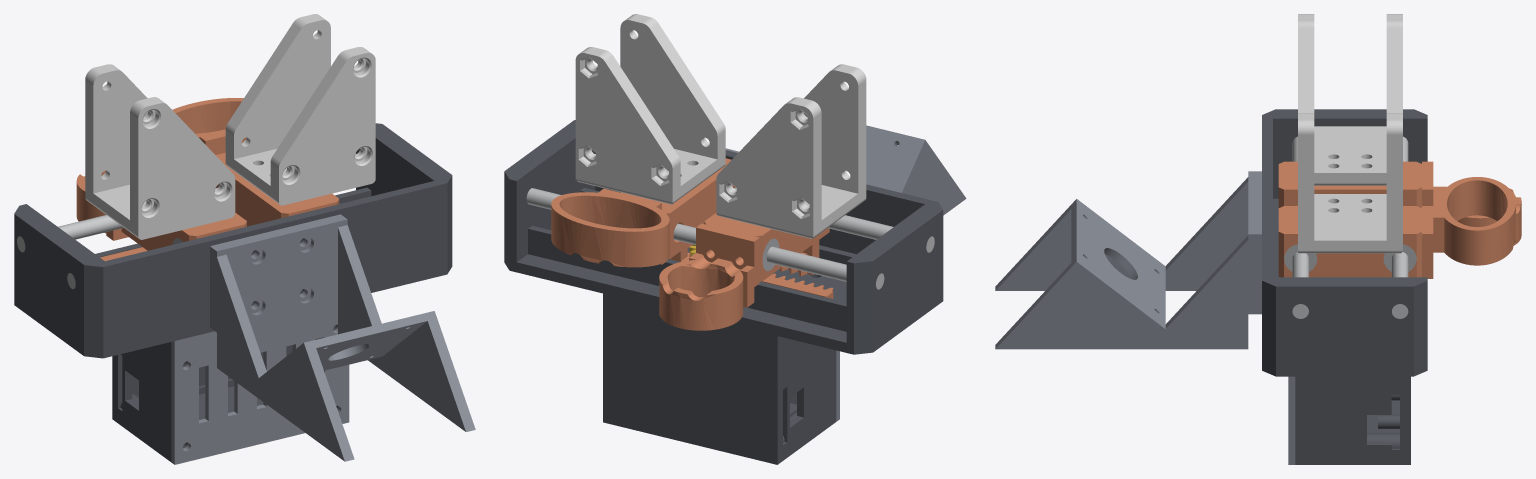
The model's file is collector_closed.glb.
3 views of the same model, side by side, from view 1: azimuth 30°, elevation 25°; view 2: azimuth 150°, elevation 25°; view 3: azimuth 270°, elevation 25° (orthographic).
Visible parts, largest first — view 1: frame, cam_imx335_mount, tip_R, tip_L, pod_lid, pod, carriage_R, ring_index, carriage_L, rod_bottom, ring_thumb; view 2: frame, pod, tip_R, tip_L, ring_thumb, ring_index, cam_imx335_mount, carriage_R, rod_bottom, carriage_L, rod_top; view 3: cam_imx335_mount, frame, pod, tip_R, tip_L, ring_index, carriage_R, carriage_L, ring_thumb, rod_bottom, rod_top, pod_lid.
Boxes of the visible parts, left/top/right/bottom form: frame: left=14, top=123, right=452, bottom=358; cam_imx335_mount: left=210, top=214, right=475, bottom=461; tip_R: left=225, top=14, right=375, bottom=205; tip_L: left=85, top=64, right=235, bottom=239; pod_lid: left=171, top=303, right=349, bottom=464; pod: left=112, top=324, right=337, bottom=461; carriage_R: left=100, top=158, right=339, bottom=261; ring_index: left=172, top=98, right=246, bottom=159; carriage_L: left=121, top=213, right=246, bottom=250; rod_bottom: left=17, top=187, right=217, bottom=252; ring_thumb: left=76, top=170, right=128, bottom=240; frame: left=504, top=120, right=943, bottom=354; pod: left=603, top=293, right=836, bottom=464; tip_R: left=575, top=14, right=725, bottom=204; tip_L: left=716, top=64, right=866, bottom=238; ring_thumb: left=659, top=223, right=759, bottom=330; ring_index: left=551, top=188, right=669, bottom=267; cam_imx335_mount: left=725, top=125, right=966, bottom=215; carriage_R: left=621, top=158, right=833, bottom=298; rod_bottom: left=526, top=188, right=884, bottom=289; carriage_L: left=687, top=213, right=829, bottom=281; rod_top: left=733, top=188, right=934, bottom=252; cam_imx335_mount: left=995, top=171, right=1261, bottom=349; frame: left=1262, top=109, right=1427, bottom=376; pod: left=1295, top=376, right=1410, bottom=464; tip_R: left=1298, top=113, right=1402, bottom=253; tip_L: left=1298, top=14, right=1402, bottom=185; ring_index: left=1422, top=177, right=1515, bottom=278; carriage_R: left=1278, top=206, right=1421, bottom=277; carriage_L: left=1278, top=161, right=1421, bottom=207; ring_thumb: left=1422, top=161, right=1521, bottom=245; rod_bottom: left=1391, top=136, right=1408, bottom=318; rod_top: left=1292, top=136, right=1308, bottom=318; pod_lid: left=1288, top=376, right=1295, bottom=464.
Bounding box in the file's own units: 0.152 × 0.1421 × 0.1906.
